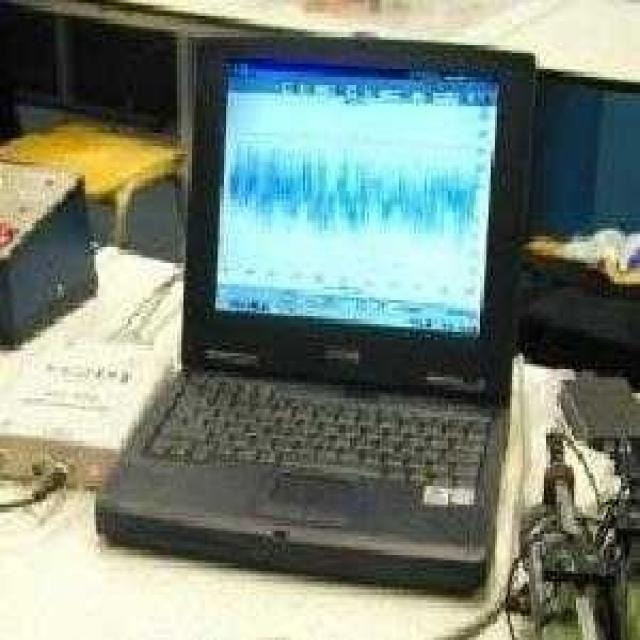laptop: (89, 44, 556, 568)
